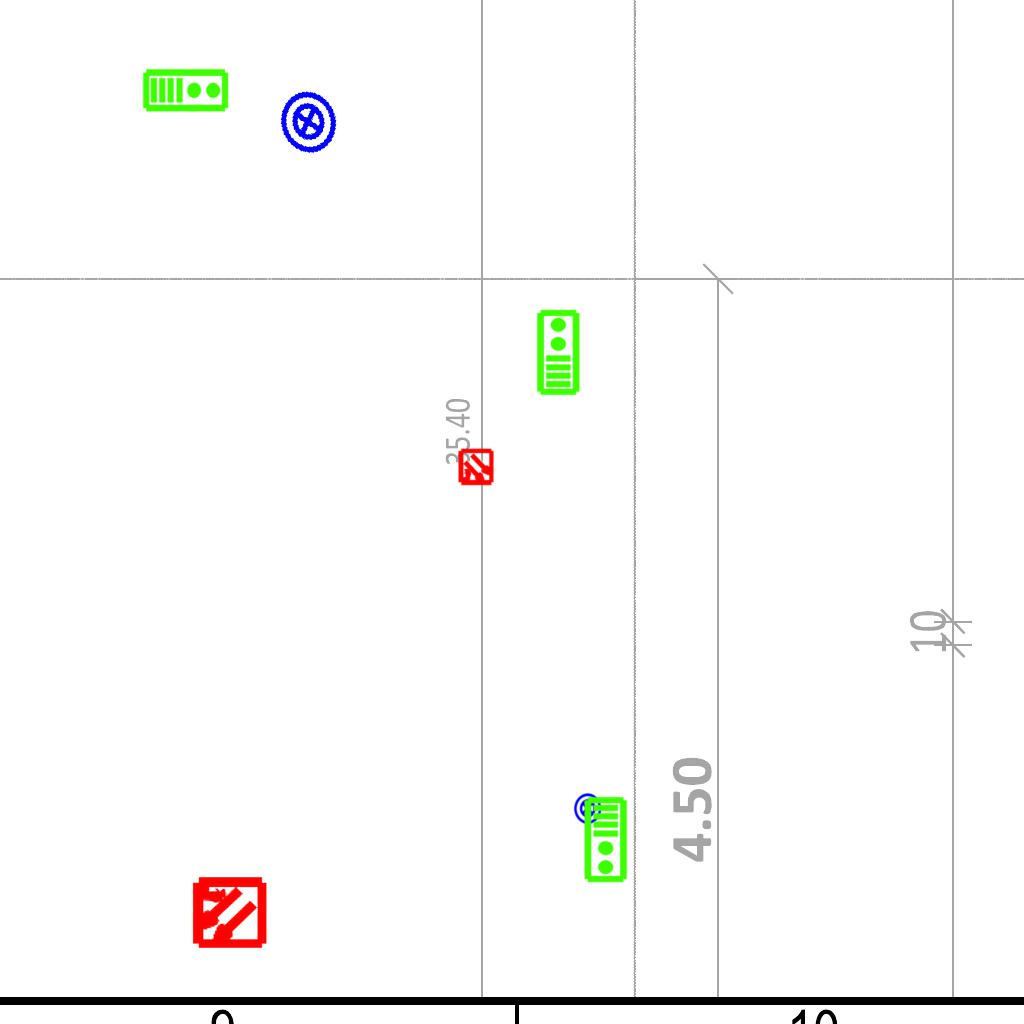Gegensprechanlage_mit_Video: (534, 308, 581, 396), (142, 66, 230, 113), (583, 796, 630, 884)
OT_Multisensormelder_(Kombination_RMO_WMD): (171, 856, 284, 969), (448, 440, 504, 496)
Taster_beleuchtet: (267, 81, 349, 163), (571, 792, 604, 825)
